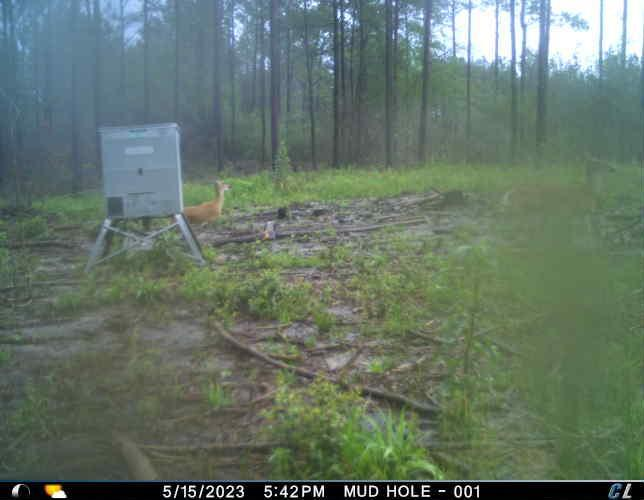Deer: (498, 149, 618, 245), (174, 181, 235, 260)
